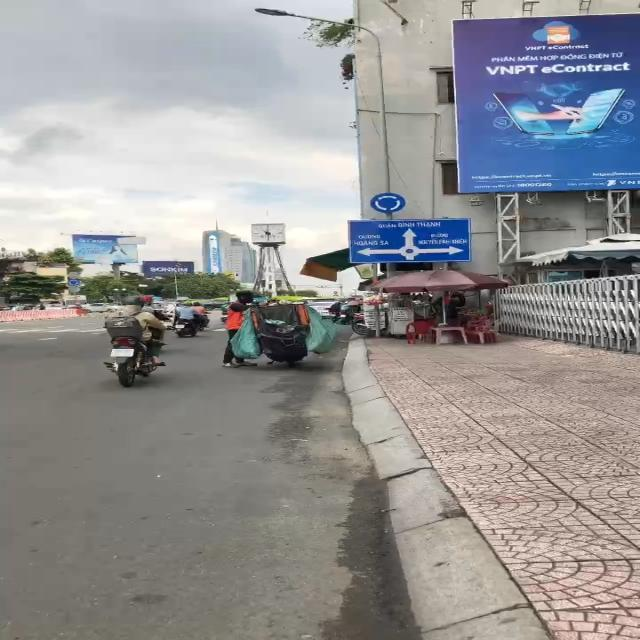Bien bao noi giao nhau chay theo vong xuyen: (368, 191, 407, 214)
